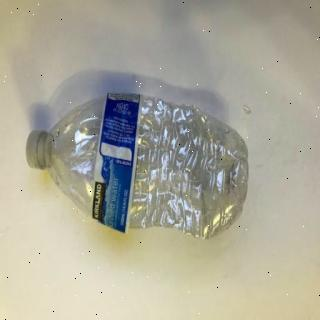Plastic-bottle: (26, 91, 252, 243)
